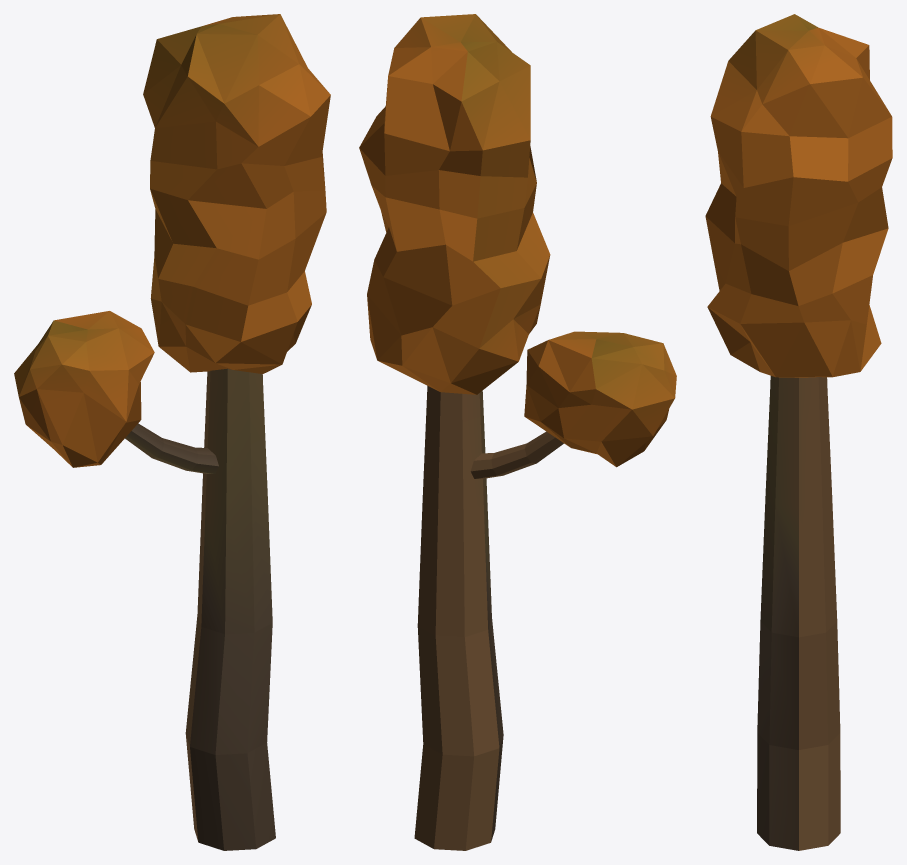
Rendered from Tree1_Autumn.fbx.
3 renders of one model, left to right at view 1: azimuth 30°, elevation 25°; view 2: azimuth 150°, elevation 25°; view 3: azimuth 270°, elevation 25°, orthographic.
Parts seen in each view (by area): view 1: Tree2.002; view 2: Tree2.002; view 3: Tree2.002.
Boxes of the visible parts, x1,y1,x2,y2 form: Tree2.002: (14,14,330,850); Tree2.002: (359,14,676,850); Tree2.002: (705,14,892,850).
Size of the model in its own units: 330 by 849 by 179.
